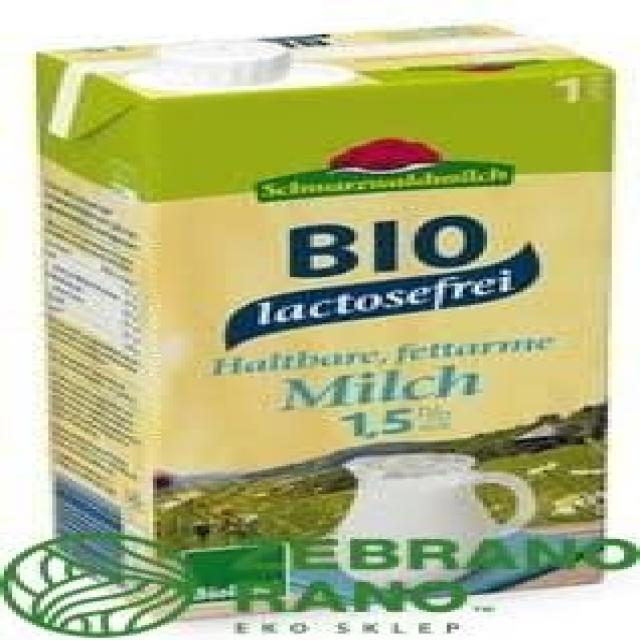non_white_jug: (20, 3, 640, 598)
